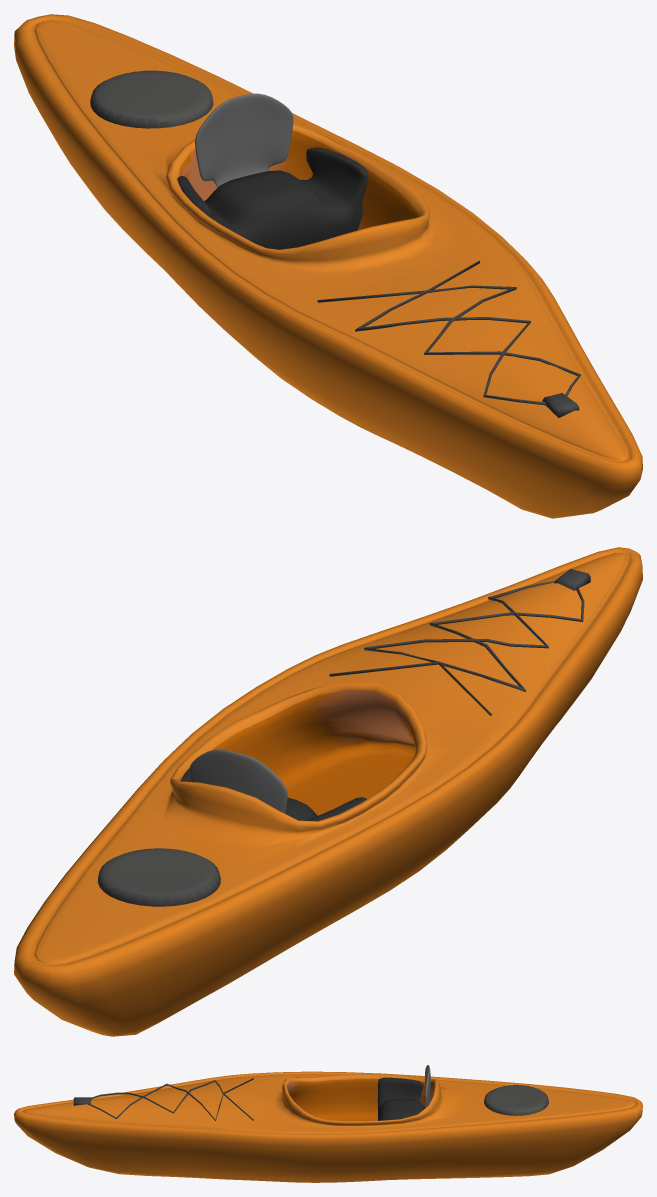
The model's file is Kayak_Yellow.fbx.
3 renders of one model, top to bottom at view 1: azimuth 30°, elevation 25°; view 2: azimuth 150°, elevation 25°; view 3: azimuth 270°, elevation 25°, orthographic. The views are drawn at different scales.
Parts seen in each view (by area): view 1: Kayak_Yellow; view 2: Kayak_Yellow; view 3: Kayak_Yellow.
Boxes of the visible parts, box(x1,y1,x2,y2) form: Kayak_Yellow: box(14, 14, 642, 518); Kayak_Yellow: box(14, 547, 642, 1036); Kayak_Yellow: box(14, 1065, 642, 1182).
Bounding box in the file's own units: 139 × 104 × 562.
